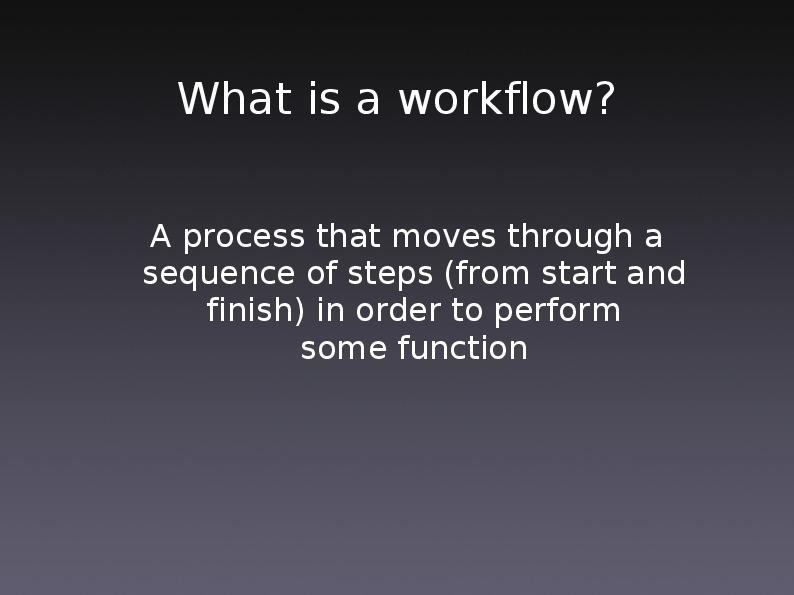paragraph: (135, 213, 691, 377)
title: (169, 74, 619, 128)
